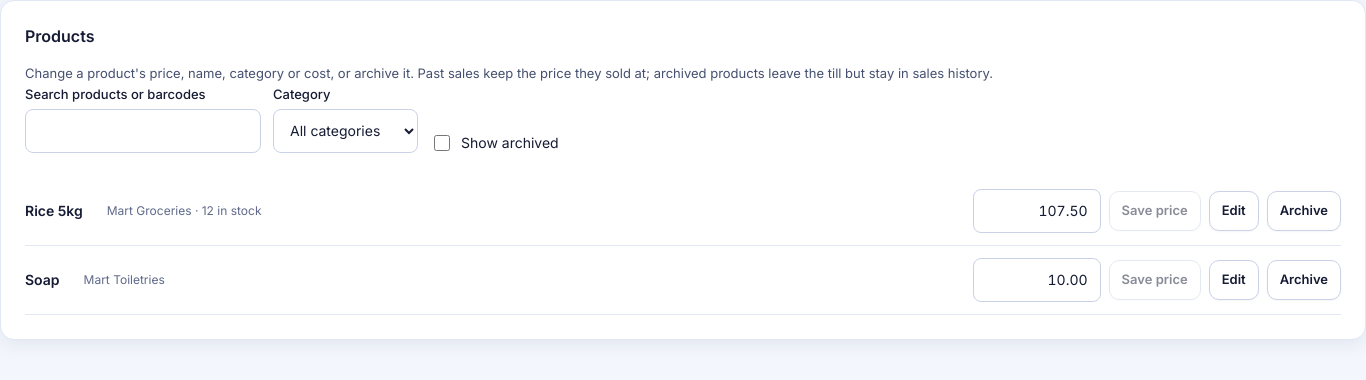
it: <ProductsCard> › saves a new price and says past sales are unchanged
Check: the button with aria-label "Save price for Rice 5kg" is disabled, box [1109,191,1201,231]
Replace the text in the field named "Price for Rice 5kg" with "120.00" at (1037, 211), box [973,189,1101,233]
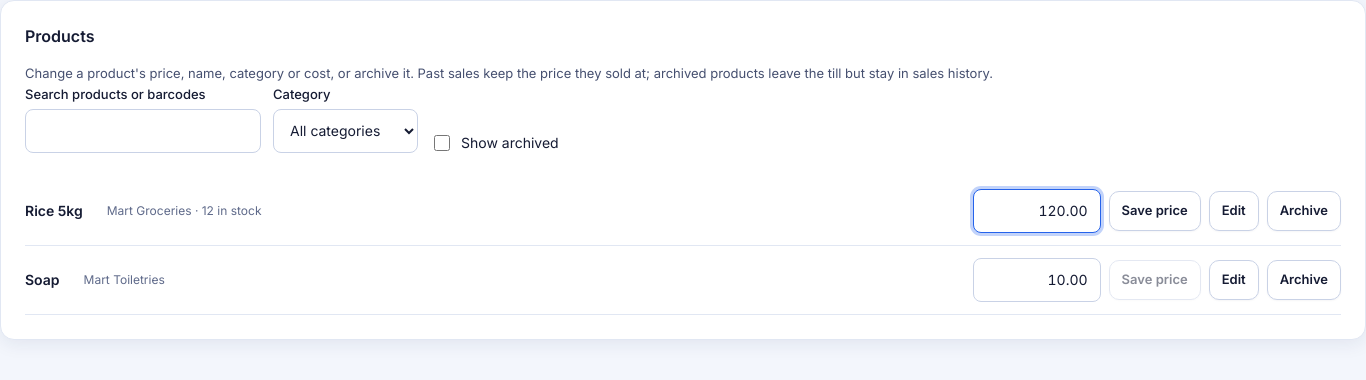
Click the button with aria-label "Save price for Rice 5kg".
click(1155, 211)  # box [1109,191,1201,231]
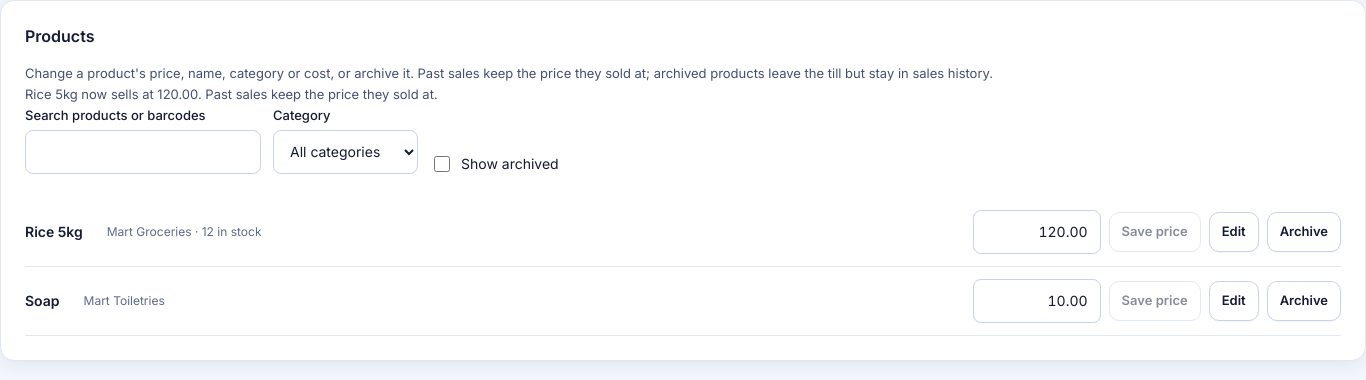
Check: the message shows "now sells at 120.00. Past sales keep the price they sold at", box [25,86,438,102]
